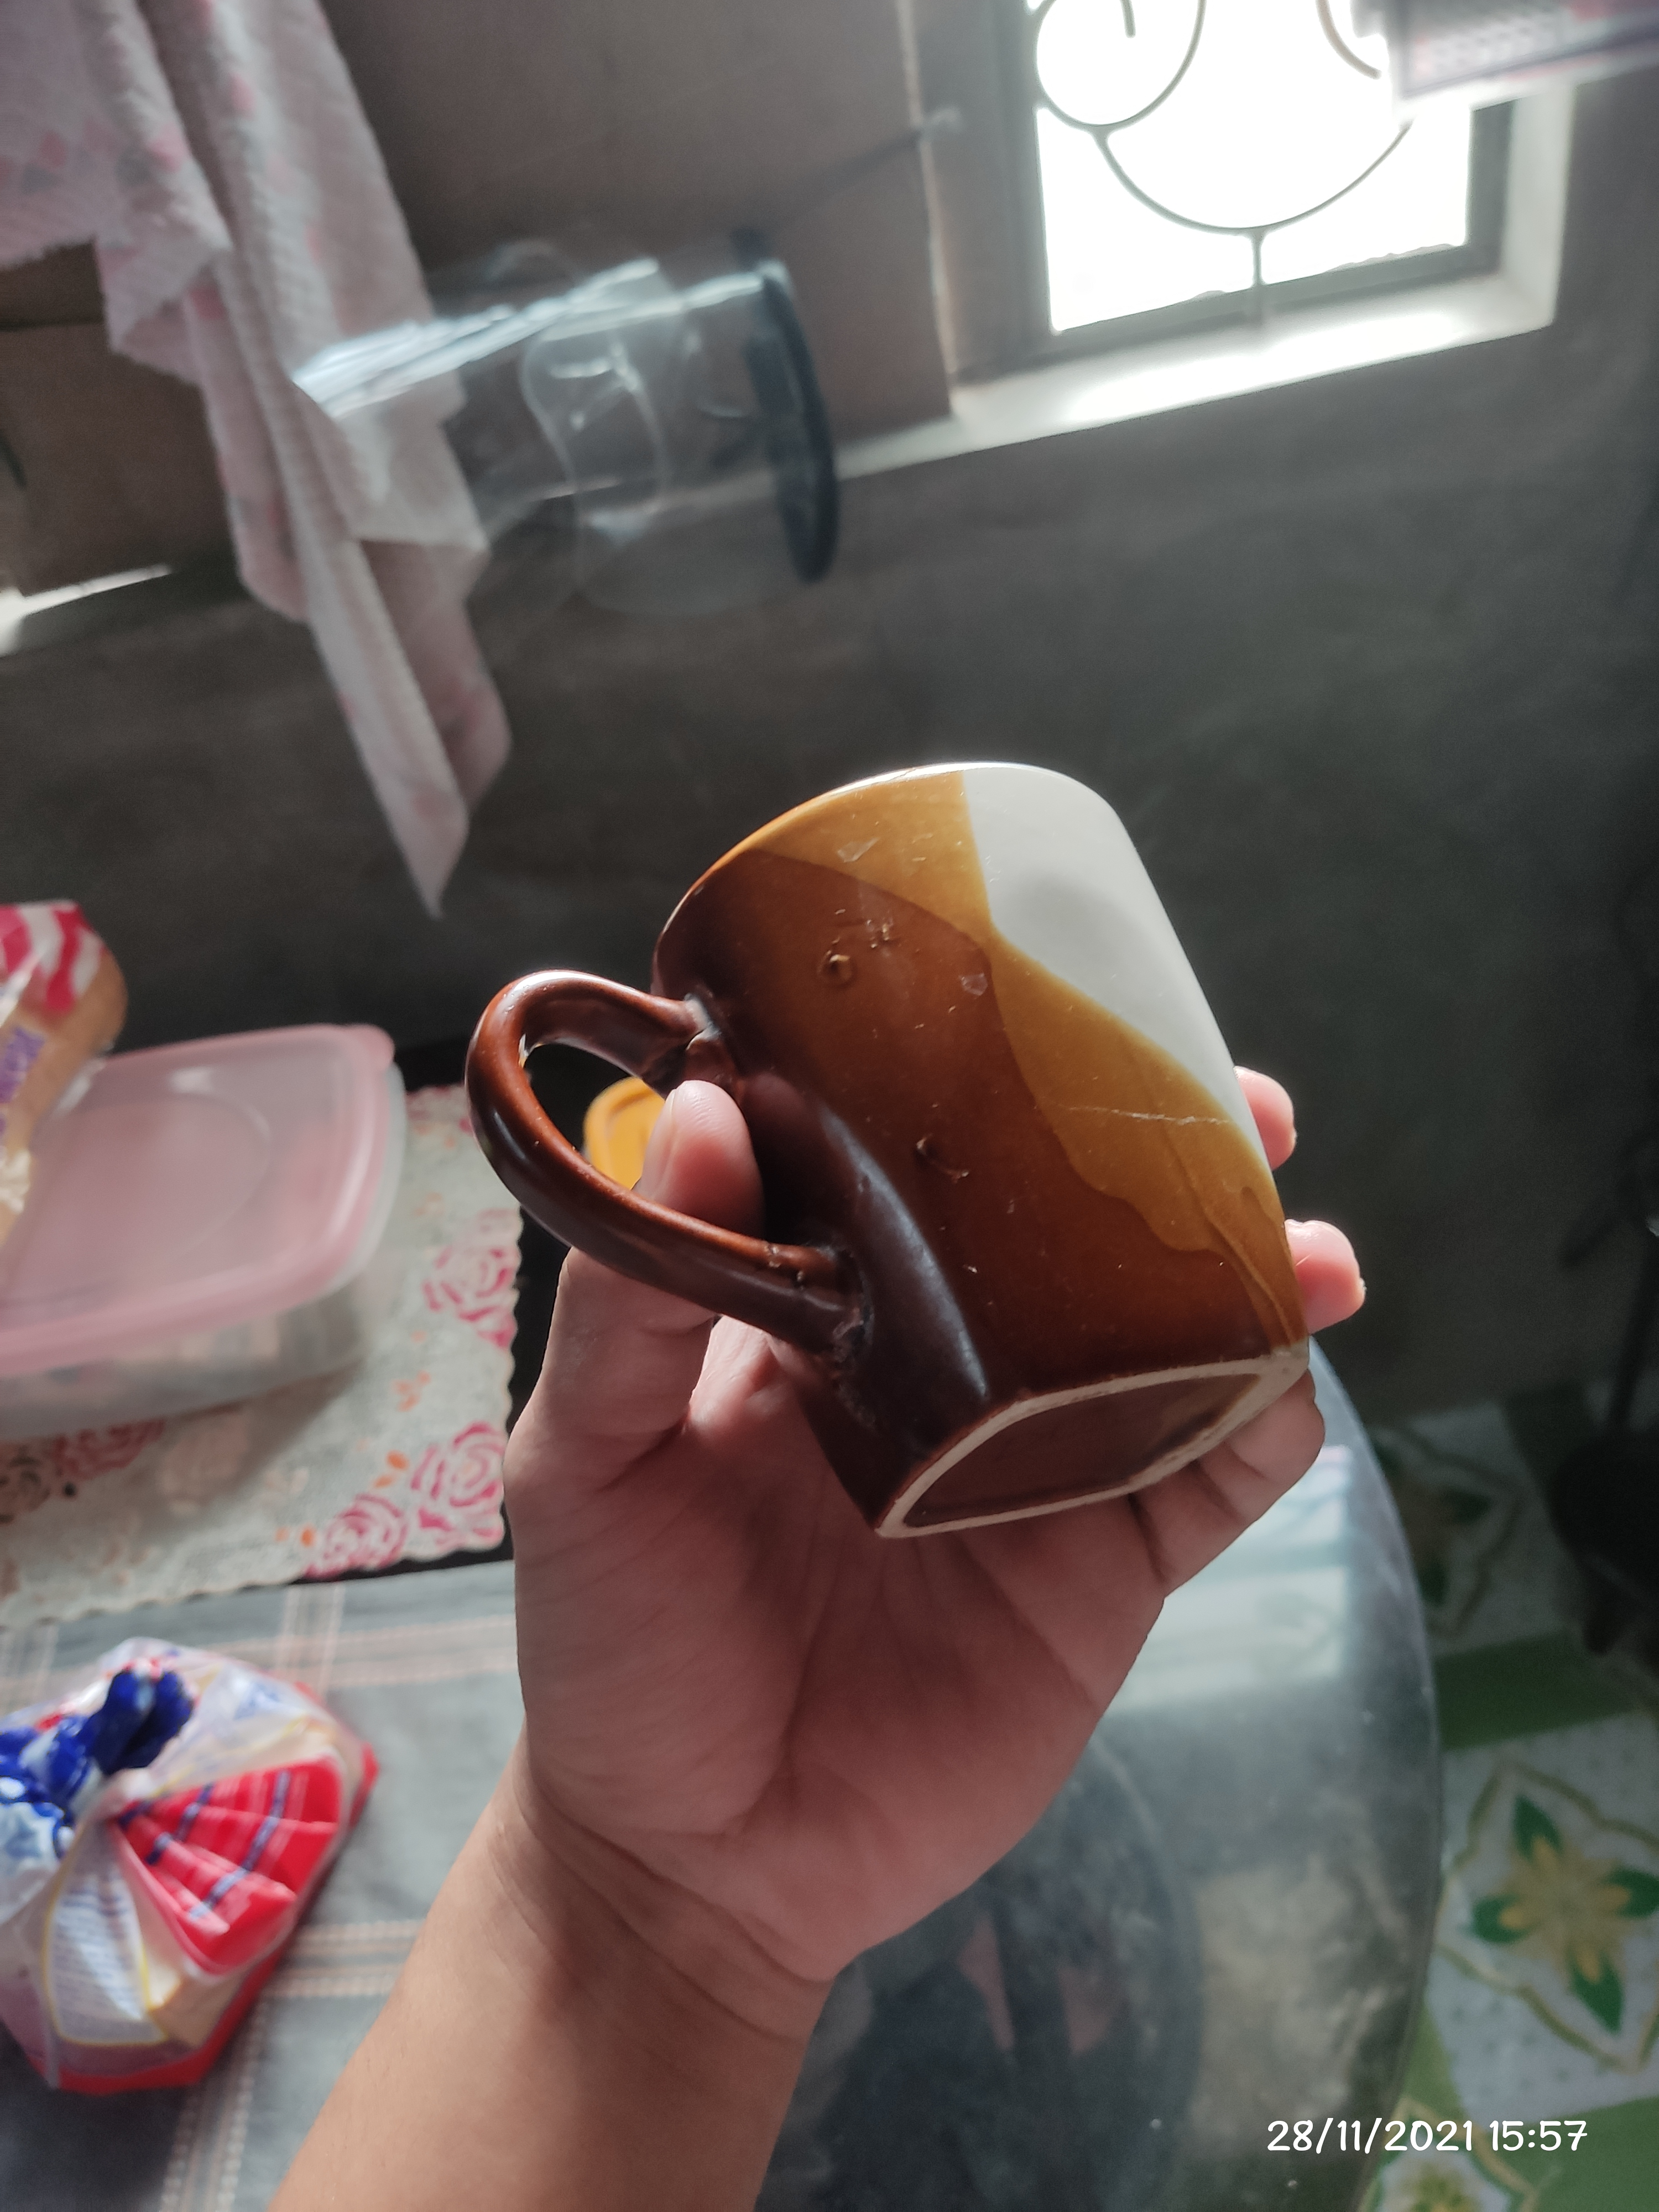mug: (477, 765, 1314, 1538)
